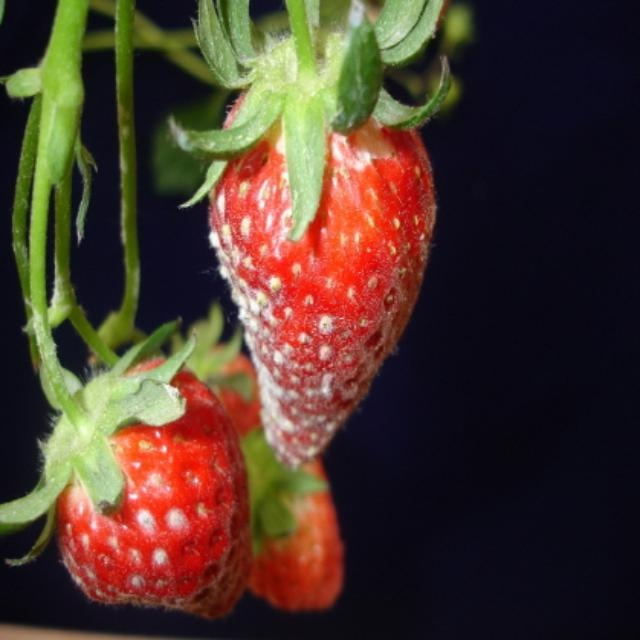Powdery Mildew Fruit: (206, 32, 437, 471), (49, 361, 233, 610)
